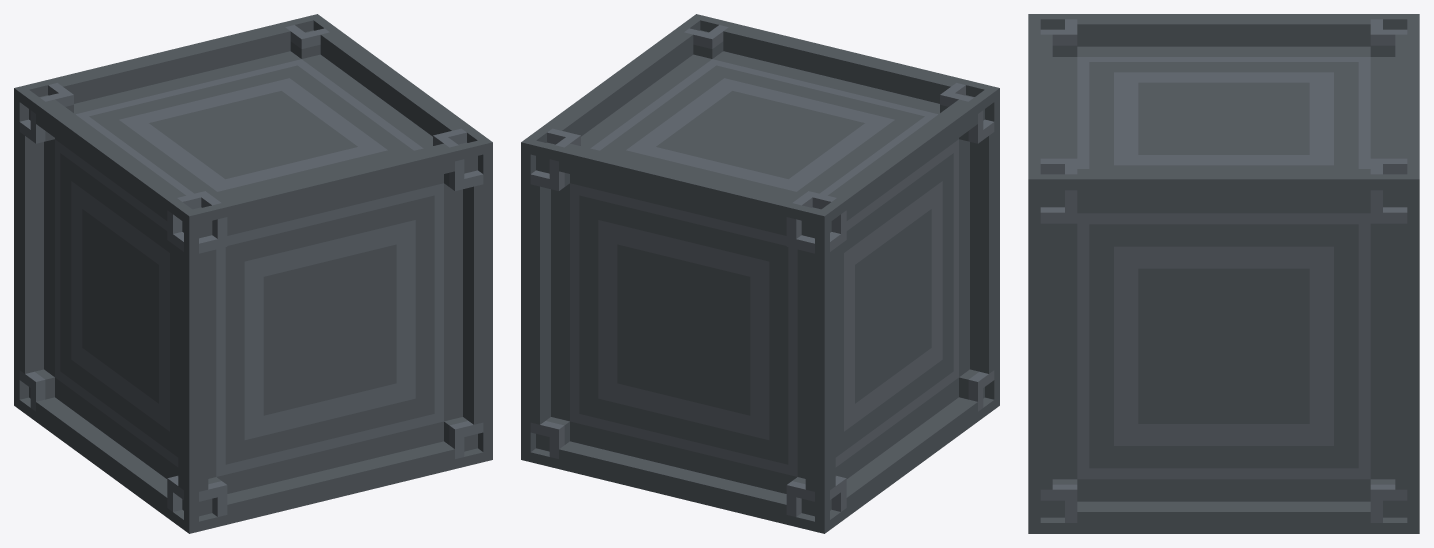
File: iron_block.obj
3 renders of one model, left to right at view 1: azimuth 30°, elevation 25°; view 2: azimuth 150°, elevation 25°; view 3: azimuth 270°, elevation 25°, orthographic. The views are drawn at different scales.
Parts seen in each view (by area): view 1: iron_block; view 2: iron_block; view 3: iron_block.
Part boxes in pixels (<box>): iron_block: <box>14,14,492,533</box>; iron_block: <box>521,14,999,533</box>; iron_block: <box>1028,14,1419,533</box>.
Bounding box in the file's own units: 32 × 32 × 32.
Materials: 1 (1 with a texture image).
